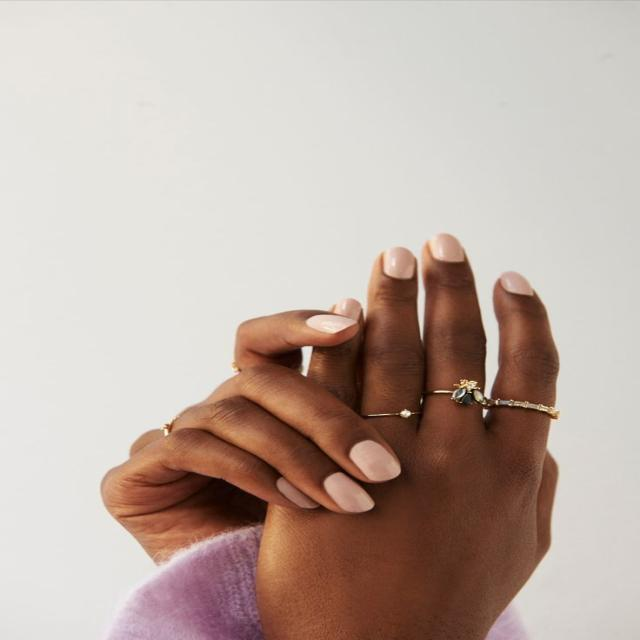Fingernail: (349, 440, 401, 481), (324, 473, 375, 513), (383, 247, 417, 279), (430, 233, 464, 263), (306, 314, 357, 334), (500, 271, 533, 296)
